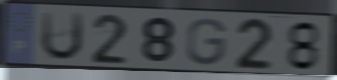2: (235, 16, 275, 72), (92, 11, 130, 67)
8: (284, 17, 322, 73), (139, 15, 178, 65)
G: (184, 16, 229, 68)
U: (38, 10, 86, 63)
